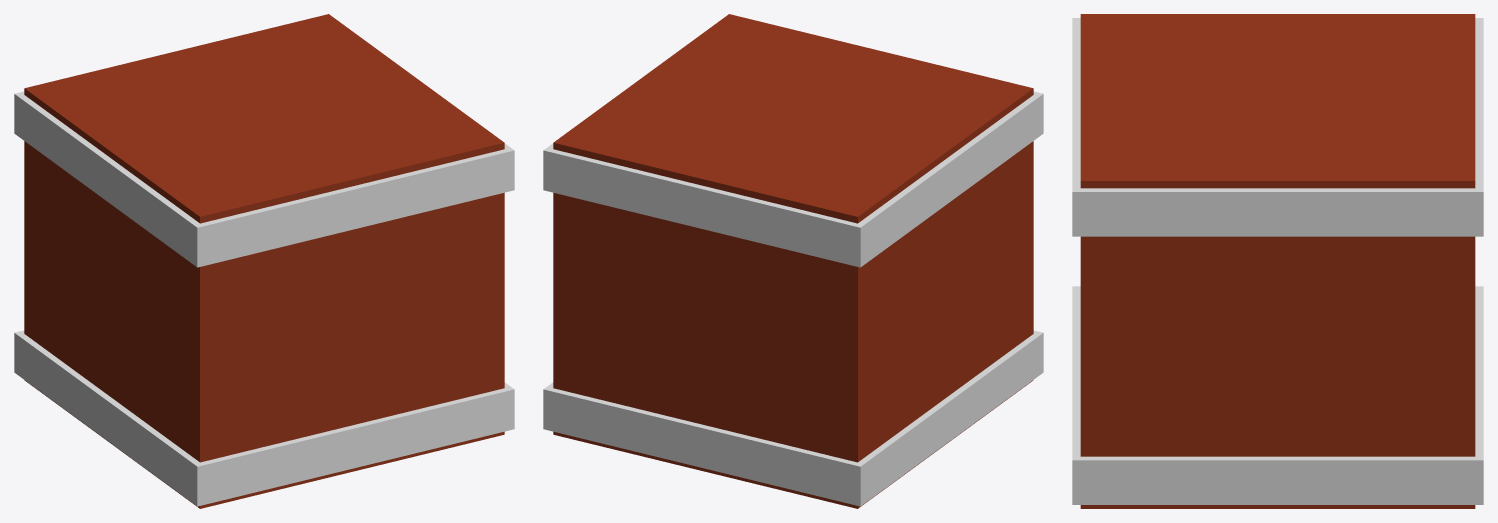
The model's file is lavaproof_tackle_bag.glb.
The picture shows the model from 3 angles, left to right: view 1: azimuth 30°, elevation 25°; view 2: azimuth 150°, elevation 25°; view 3: azimuth 270°, elevation 25°; orthographic projection. The views are drawn at different scales.
Parts seen in each view (by area): view 1: lavaproof_tackle_bag_v0; view 2: lavaproof_tackle_bag_v0; view 3: lavaproof_tackle_bag_v0.
Part boxes in pixels (x1,y1,x2,y2): lavaproof_tackle_bag_v0: (14,14,514,508); lavaproof_tackle_bag_v0: (543,14,1043,508); lavaproof_tackle_bag_v0: (1072,14,1483,508).
Size of the model in its own units: 0.25 by 0.22 by 0.25.
